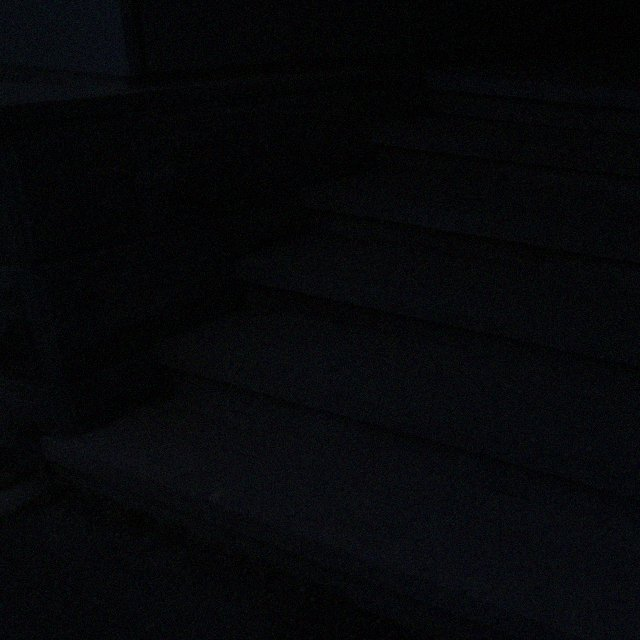stair: (41, 34, 639, 639)
